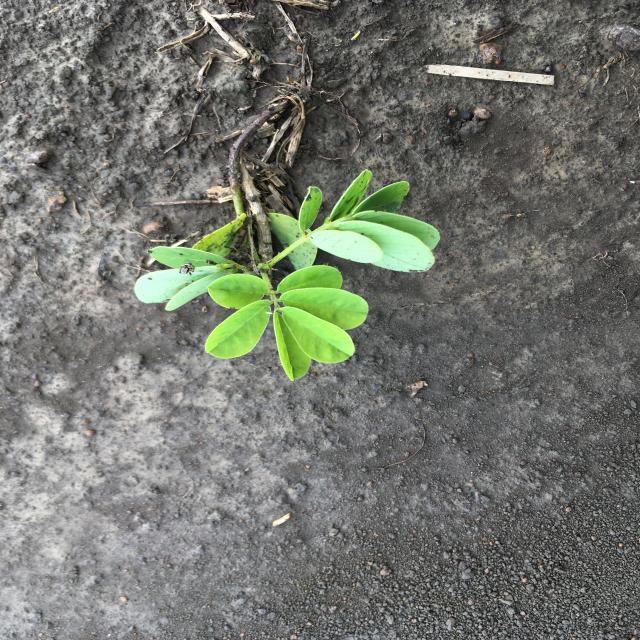Sicklepod: (131, 168, 443, 384)
